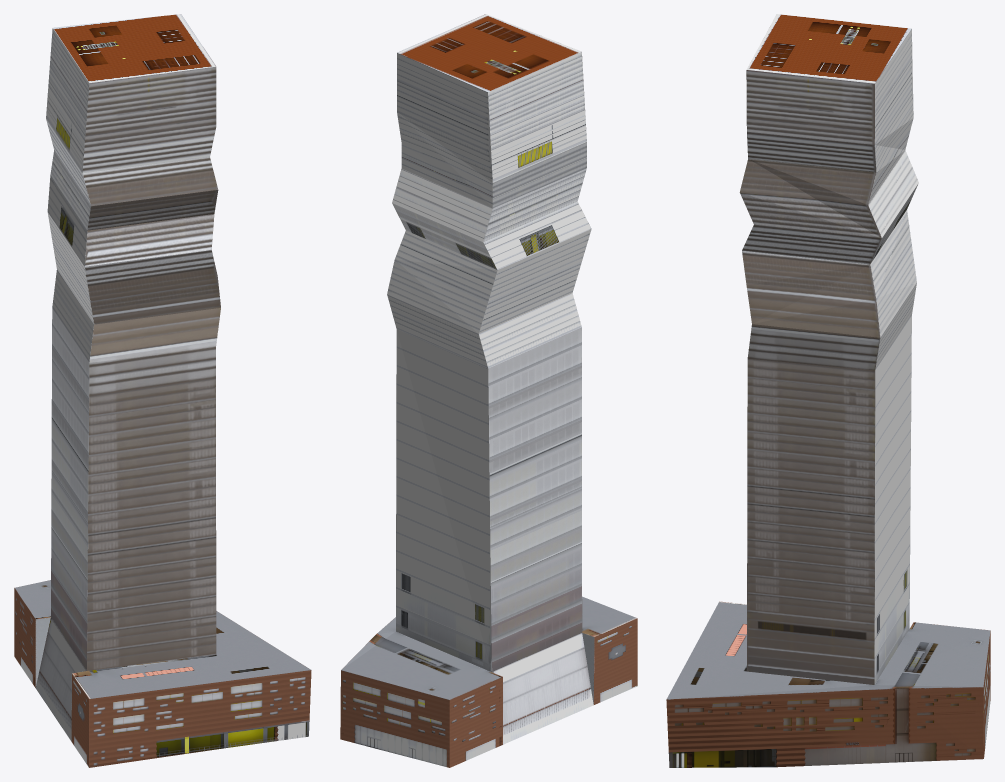
3 views of the same model, side by side, from view 1: azimuth 30°, elevation 25°; view 2: azimuth 150°, elevation 25°; view 3: azimuth 270°, elevation 25° (orthographic). The views are drawn at different scales.
Parts seen in each view (by area): view 1: 2.13copy; view 2: 2.13copy; view 3: 2.13copy.
Boxes of the visible parts, x1,y1,x2,y2 form: 2.13copy: (14,14,311,767); 2.13copy: (340,14,637,767); 2.13copy: (666,14,990,767).
Bounding box in the file's own units: 50.1 × 160 × 69.97.
1 material, 1 textured.
